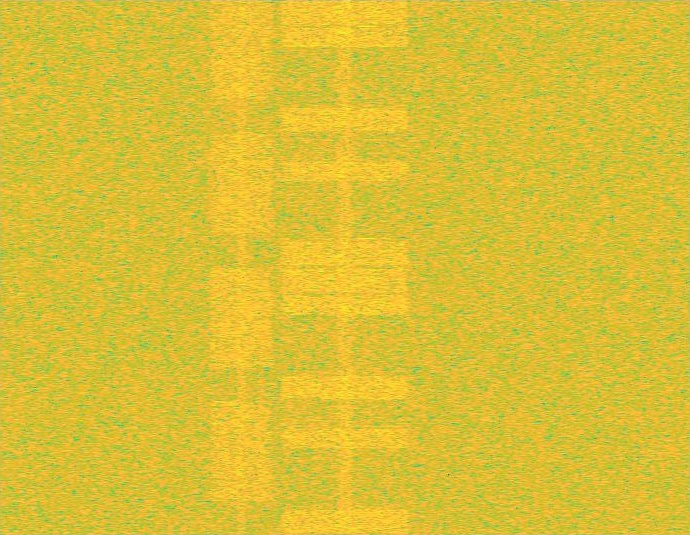5G: (207, 0, 276, 534)
DSSS: (336, 0, 354, 534), (237, 0, 246, 534)
LTE: (276, 0, 414, 534)
Radar: (360, 0, 374, 534)
